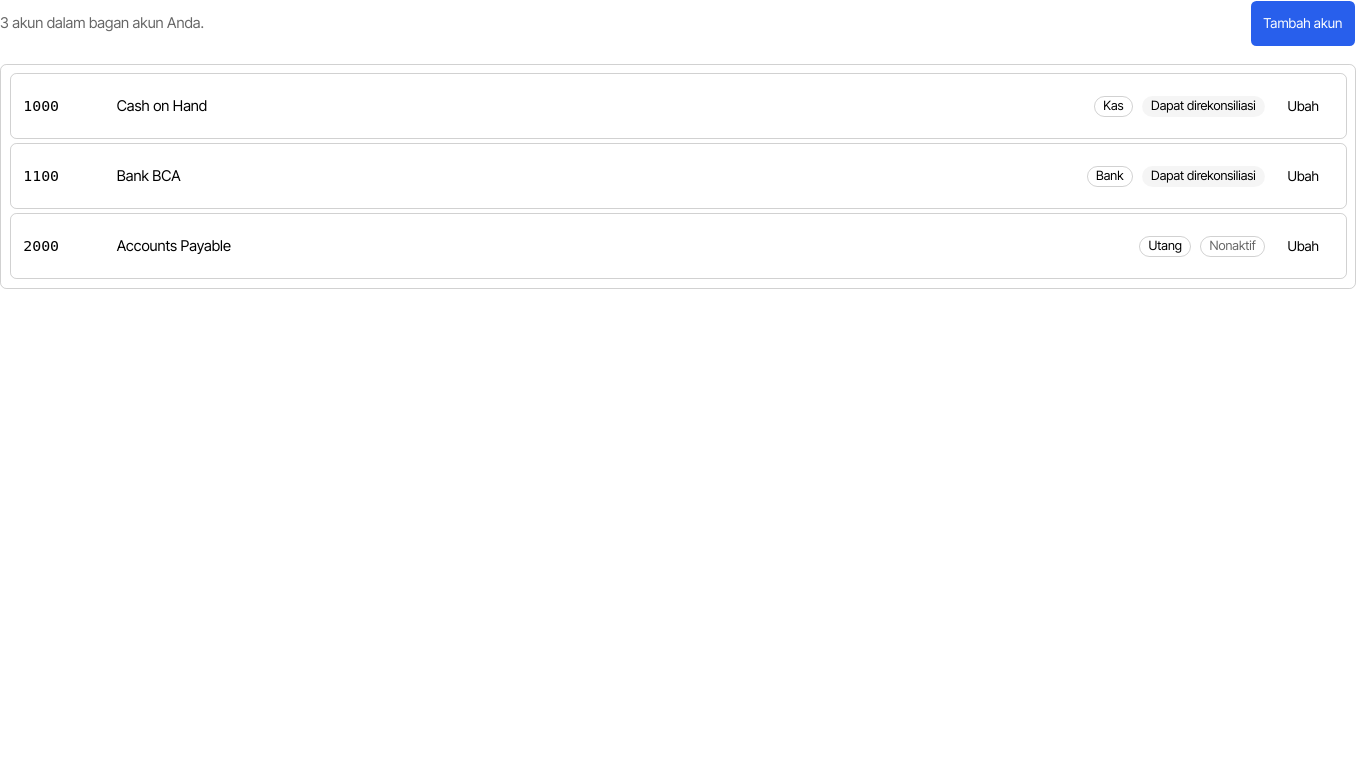
Scenario: AccountsSection › opens the edit dialog from a row action
The width and height of the screenshot is (1366, 768).
Expected: the text "Cash on Hand" is shown, [117,96,207,114]
Step 1. Click the button "Ubah" in the row of "Kas" → (1303, 106), box [1274,83,1333,130]
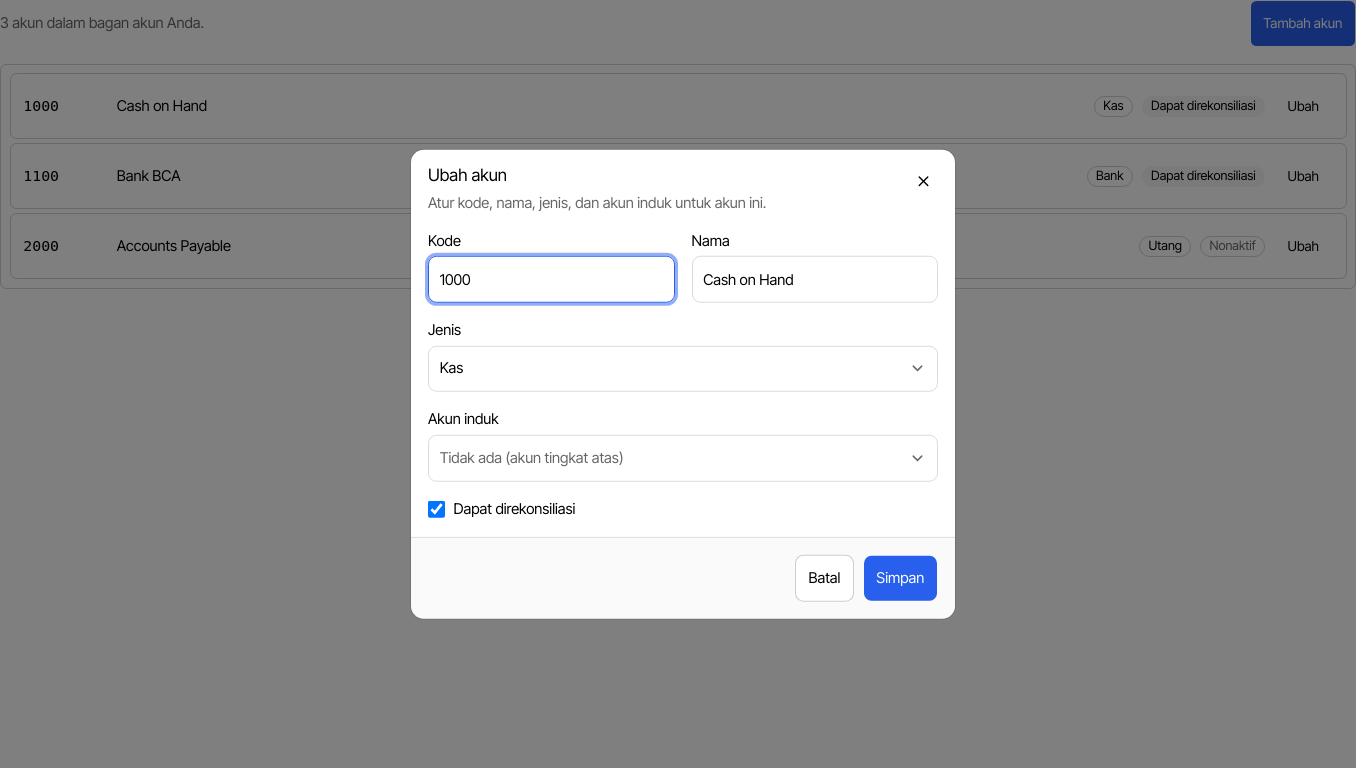
Now the dialog is shown, box [411,150,955,618]
Now the heading "Ubah akun" is shown, box [428,165,507,185]
